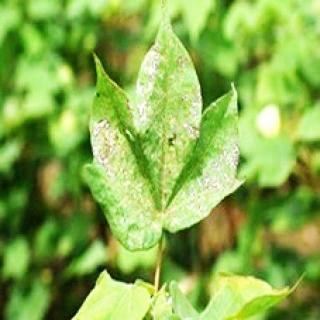grey mildew: (88, 28, 242, 244)
